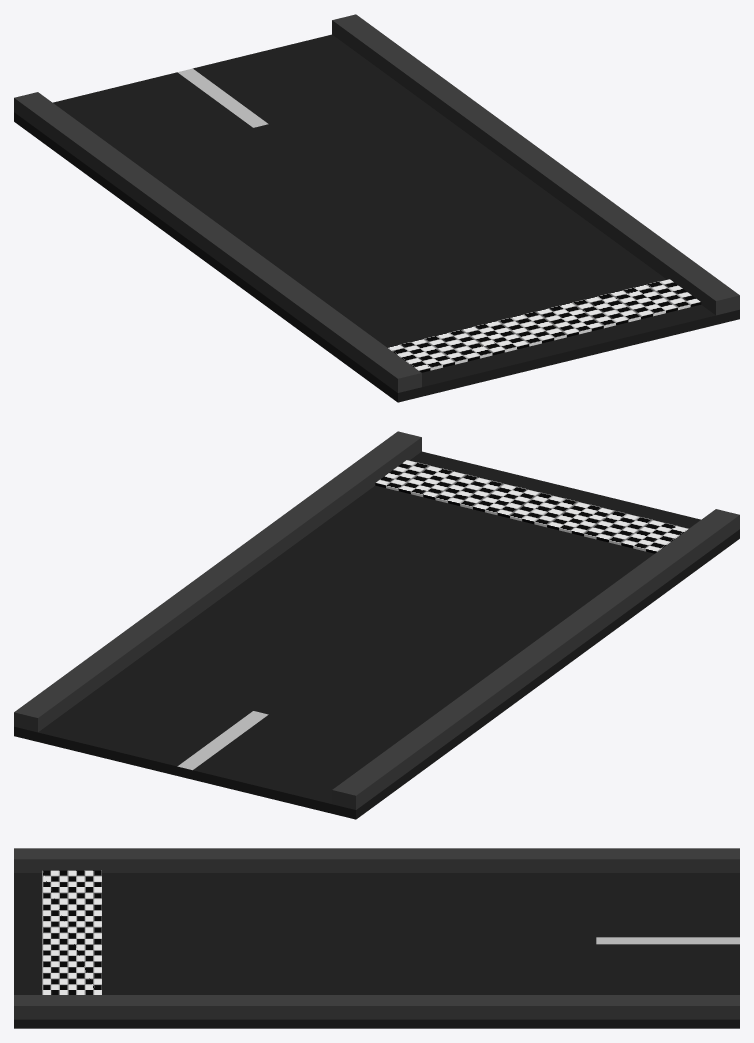
File: RoadFinish.fbx
3 renders of one model, top to bottom at view 1: azimuth 30°, elevation 25°; view 2: azimuth 150°, elevation 25°; view 3: azimuth 270°, elevation 25°, orthographic. The views are drawn at different scales.
Parts seen in each view (by area): view 1: Cube.011; view 2: Cube.011; view 3: Cube.011.
Part boxes in pixels (<box>): Cube.011: <box>14,14,739,402</box>; Cube.011: <box>14,431,739,819</box>; Cube.011: <box>14,848,739,1028</box>.
Bounding box in the file's own units: 271 × 18.06 × 527.
